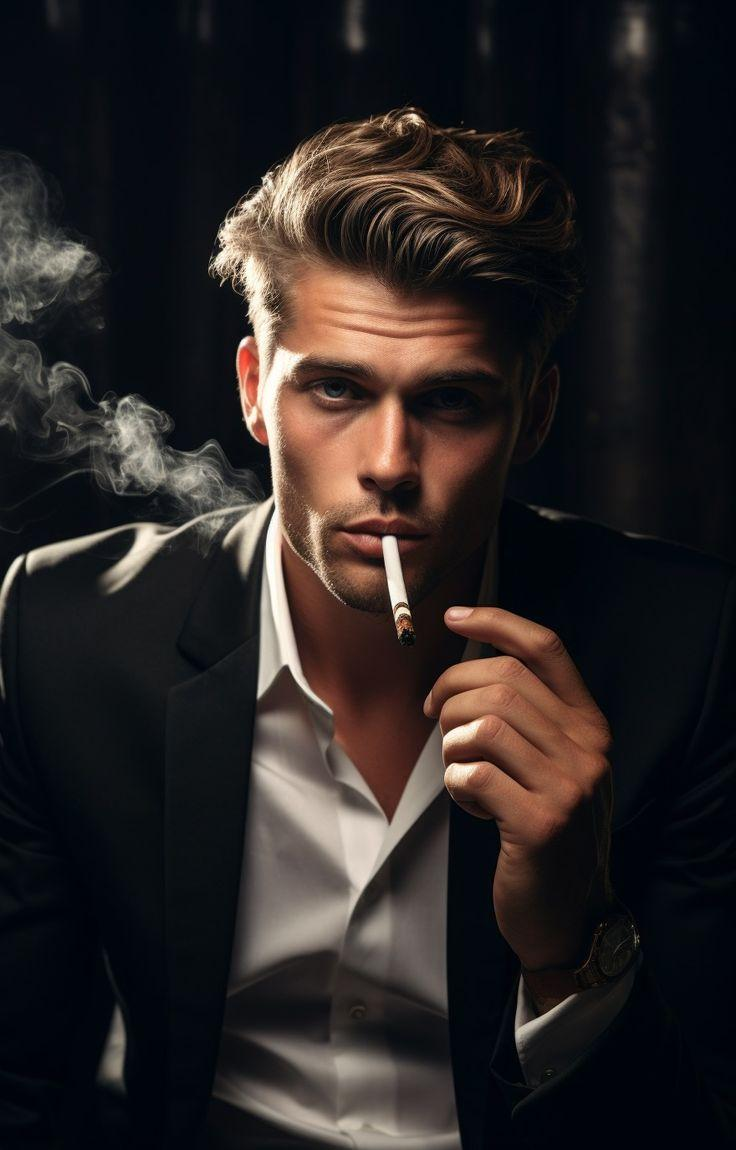cigarette: (381, 534, 417, 648)
